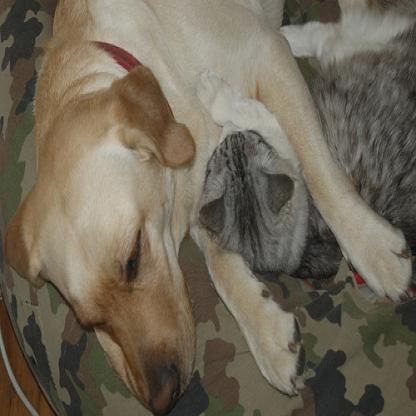cat: (198, 3, 415, 280)
dog: (5, 0, 409, 407)
